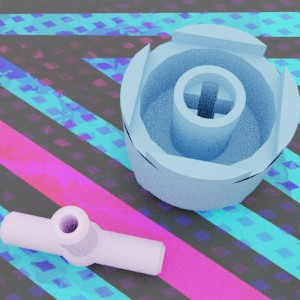3941: (120, 24, 299, 210)
4697b: (0, 206, 165, 275)
